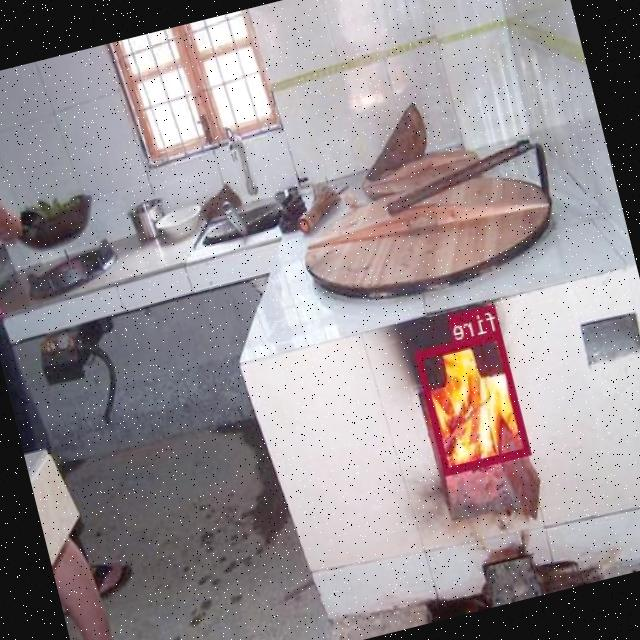fire: (416, 330, 532, 472)
